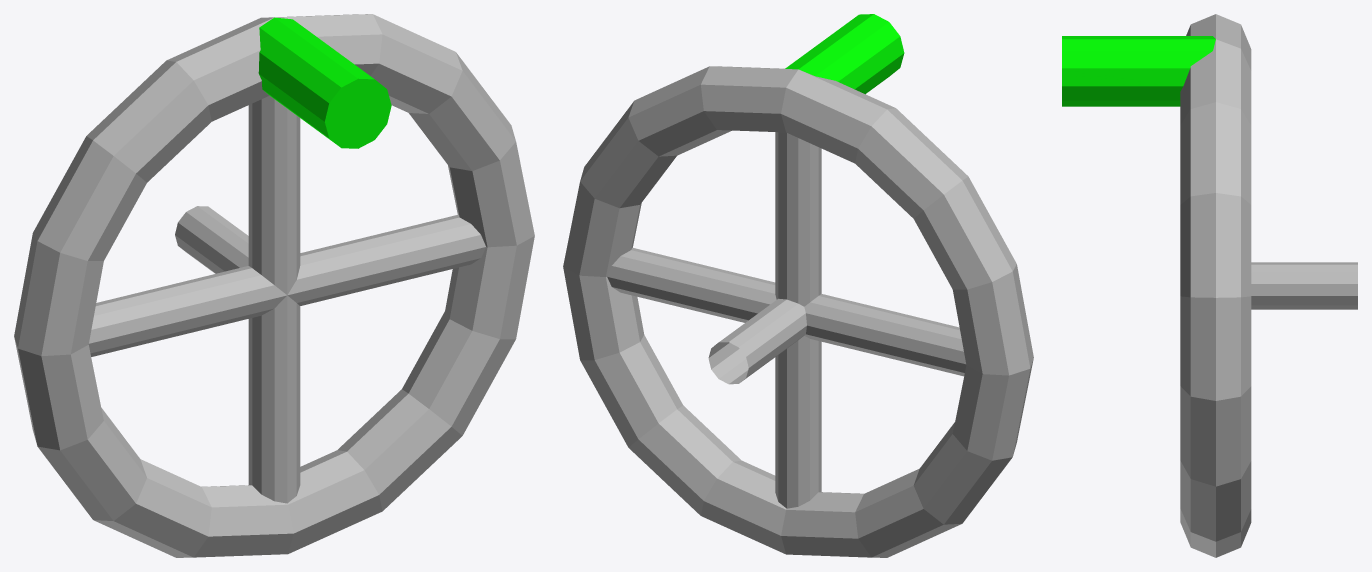
The model's file is rad1.obj.
3 renders of one model, left to right at view 1: azimuth 30°, elevation 25°; view 2: azimuth 150°, elevation 25°; view 3: azimuth 270°, elevation 25°, orthographic. The views are drawn at different scales.
Size of the model in its own units: 0.46 by 0.46 by 0.25.
